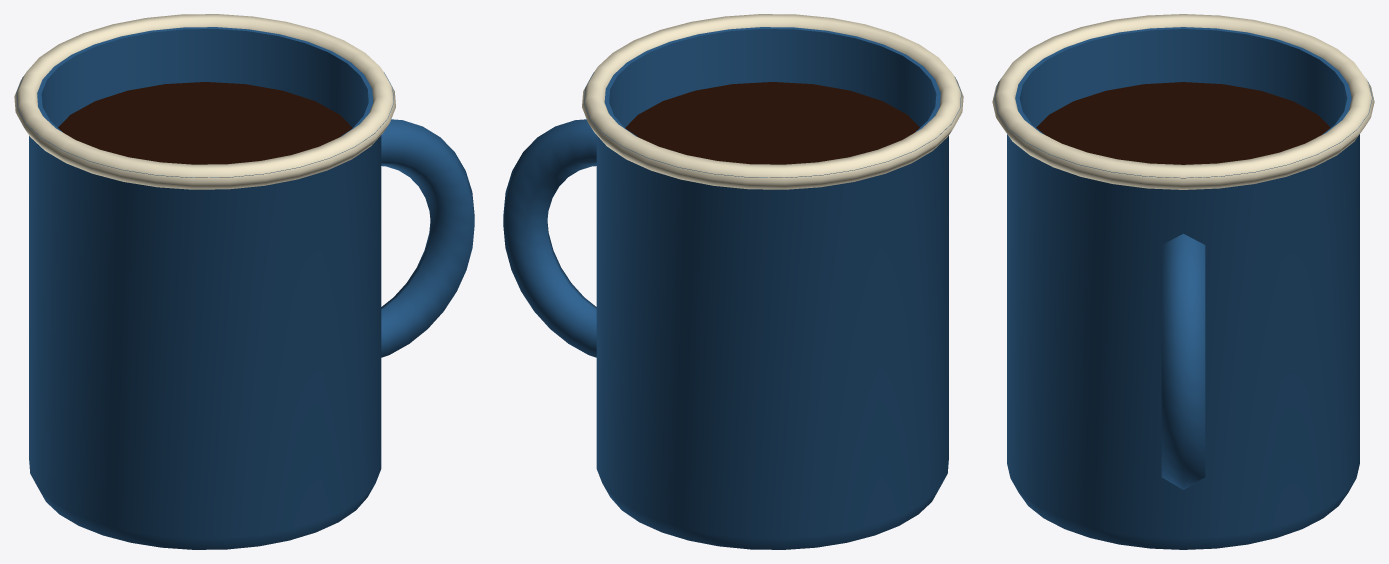
Rendered from MugBlue.glb.
3 views of the same model, side by side, from view 1: azimuth 30°, elevation 25°; view 2: azimuth 150°, elevation 25°; view 3: azimuth 270°, elevation 25° (orthographic).
Parts seen in each view (by area): view 1: MugBlue_Body; view 2: MugBlue_Body; view 3: MugBlue_Body.
Part boxes in pixels (bbox=[...]): MugBlue_Body: bbox=[14, 14, 474, 549]; MugBlue_Body: bbox=[503, 14, 963, 549]; MugBlue_Body: bbox=[992, 14, 1374, 549].
Size of the model in its own units: 0.1195 by 0.1016 by 0.091.
